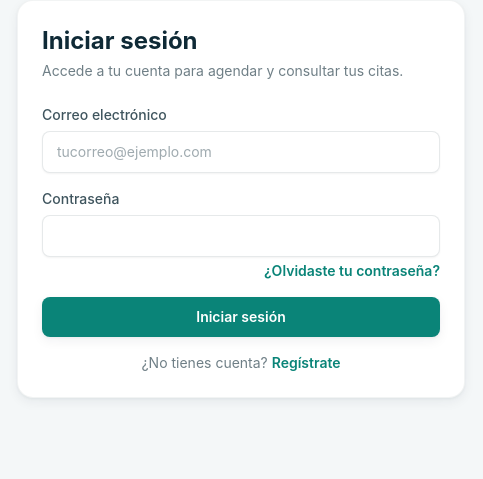
Test: <Login /> › un error desconocido de Supabase no se muestra crudo (en inglés)
Type "paciente@test.com" into the field labelled "Correo electrónico" at x=241, y=152, box [42,131,440,173]
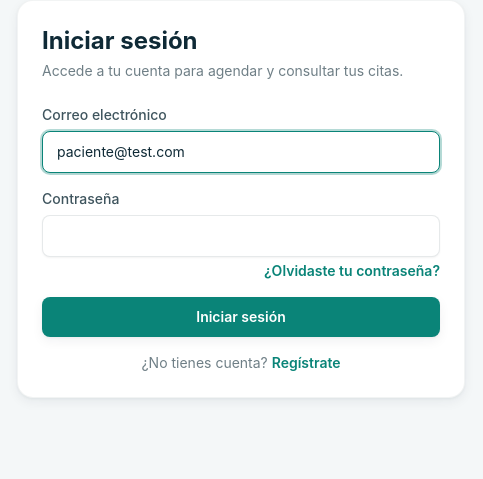
Type "cualquiera" into the password field labelled "Contraseña" at x=241, y=236, box [42,215,440,257]
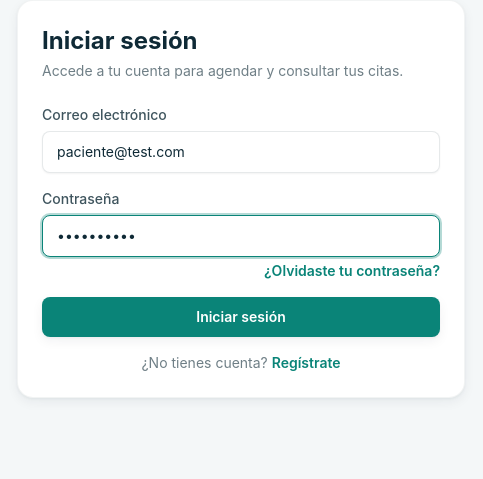
Click the button "Iniciar sesión" at x=241, y=317, box [42,297,440,337]
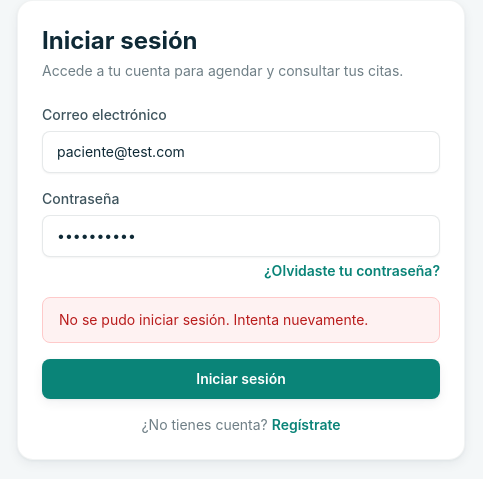
Result: the message reads "No se pudo iniciar sesión. Intenta nuevamente." at [59,311,368,328]
